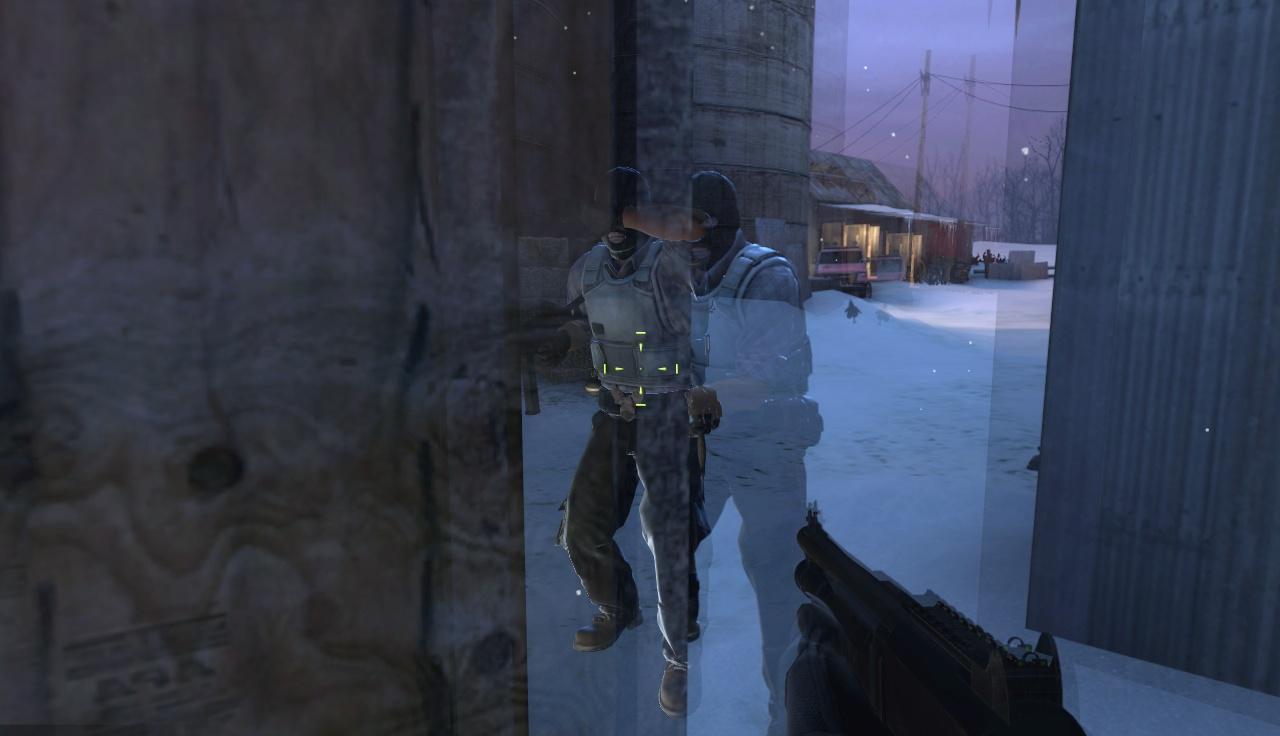shotgun: (786, 507, 1085, 736)
tt: (563, 168, 708, 699)
tthead: (585, 173, 660, 259)
